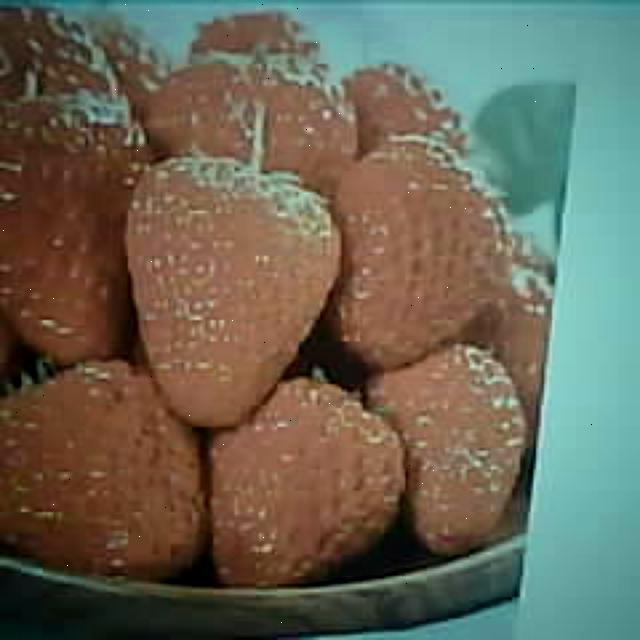ripe: (128, 158, 342, 422), (2, 361, 204, 567), (212, 382, 394, 584), (344, 157, 501, 366)
